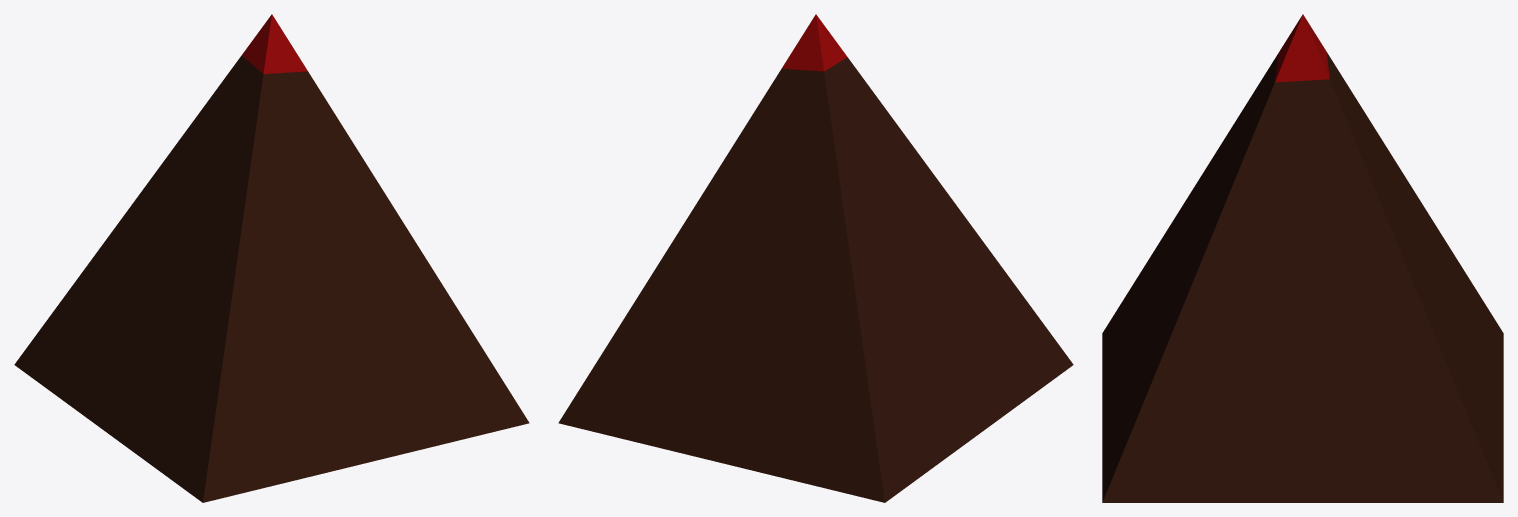
Rendered from PRO_Mountain_02.FBX.
3 views of the same model, side by side, from view 1: azimuth 30°, elevation 25°; view 2: azimuth 150°, elevation 25°; view 3: azimuth 270°, elevation 25° (orthographic). The views are drawn at different scales.
Parts seen in each view (by area): view 1: PRO_Mountain_02; view 2: PRO_Mountain_02; view 3: PRO_Mountain_02.
Boxes of the visible parts, bbox=[...] form: PRO_Mountain_02: bbox=[14, 14, 529, 502]; PRO_Mountain_02: bbox=[558, 14, 1073, 502]; PRO_Mountain_02: bbox=[1102, 14, 1503, 502].
Bounding box in the file's own units: 14.93 × 16.59 × 14.93.
